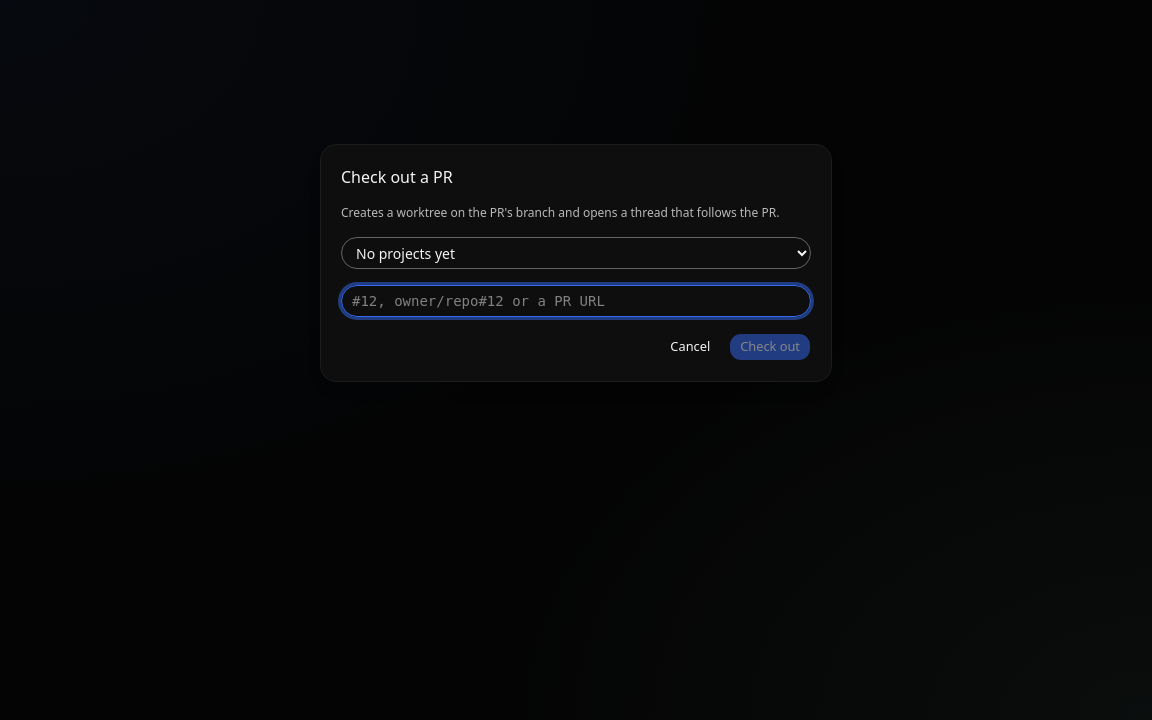
Test: CheckoutPrDialog › explains an unrecognised reference and a failed checkout
Type "not a pr" into the field named "Pull request number or URL".
click(576, 301); type("not a pr")  # box [341, 285, 811, 317]
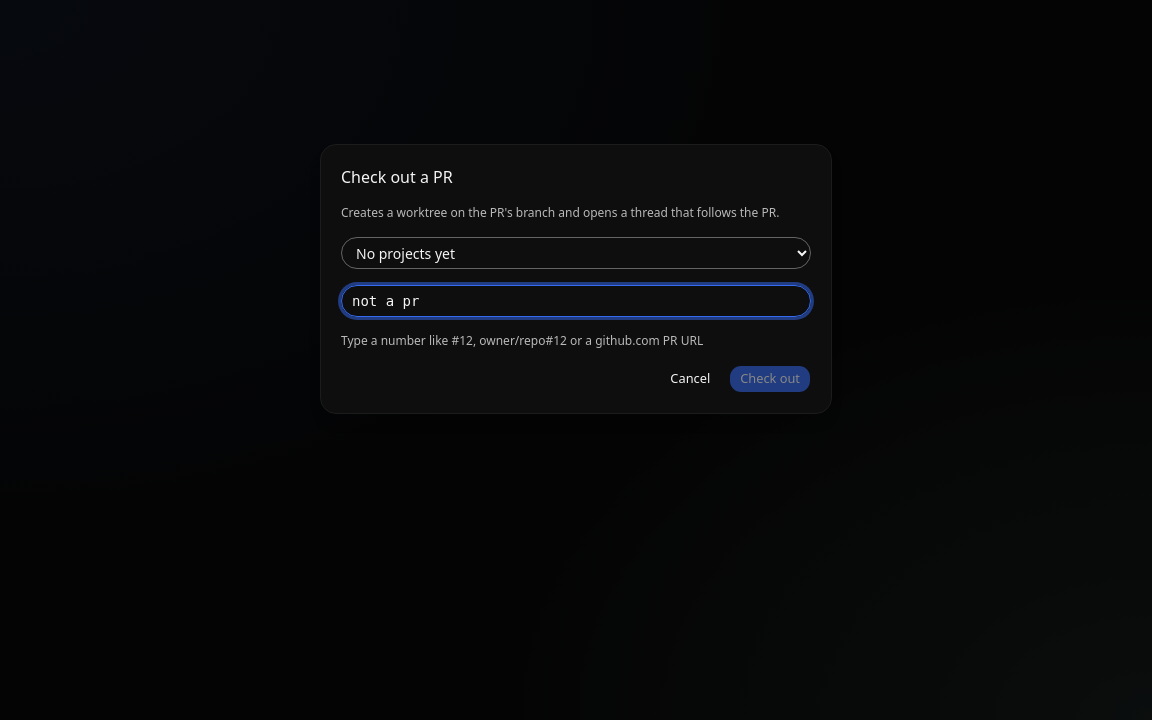
Check: the button "Check out" is disabled, box [729, 365, 811, 393]
Check: the text "Type a number like #12, owner/repo#12 or a github.com PR URL" is shown, box [341, 332, 703, 349]
Replace the text in the field named "Pull request number or URL" with "#99" at (576, 301), box [341, 285, 811, 317]
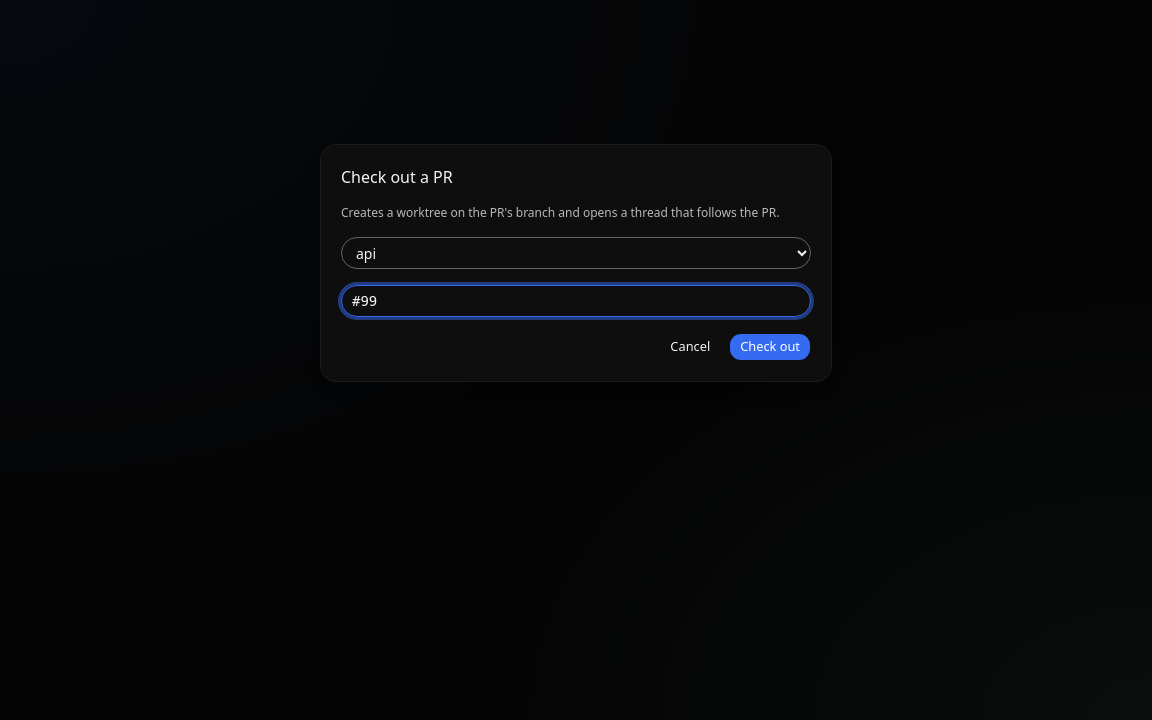
Check: the dropdown named "Project" shows "api", box [341, 237, 811, 269]
Click the button "Check out".
click(770, 347)  # box [729, 333, 811, 361]
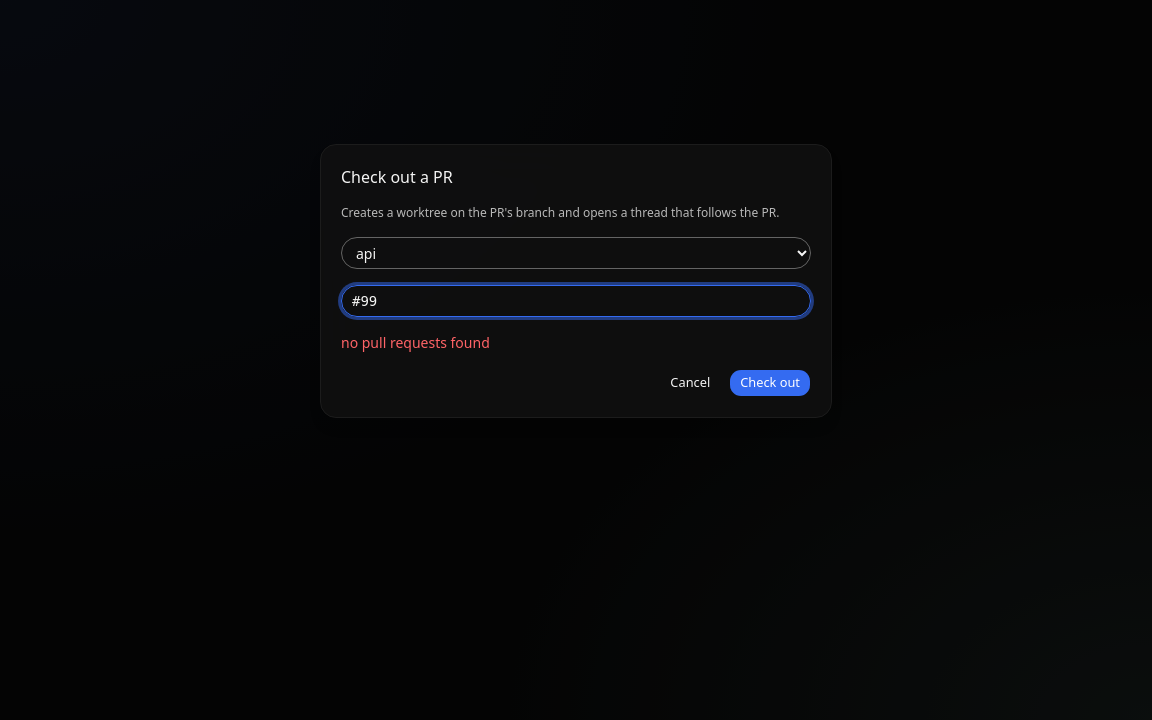
Check: the message reads "no pull requests found", box [341, 333, 490, 352]
